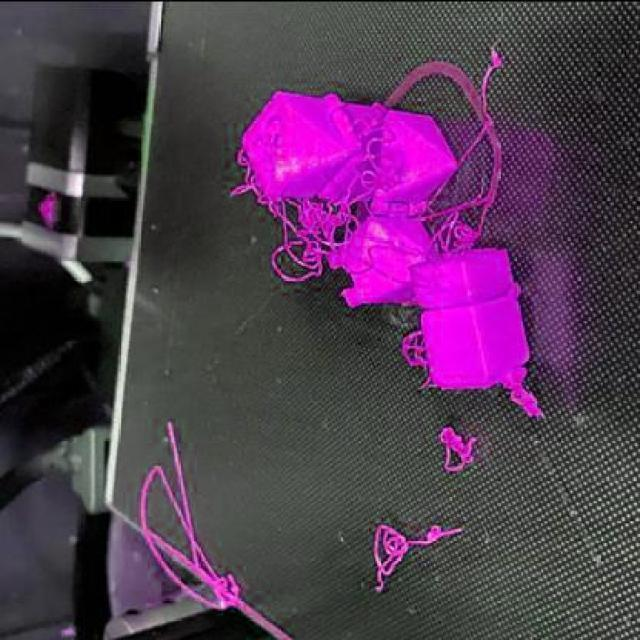spaghetti: (230, 96, 395, 282), (140, 423, 240, 611), (370, 519, 464, 595), (422, 211, 478, 257)
